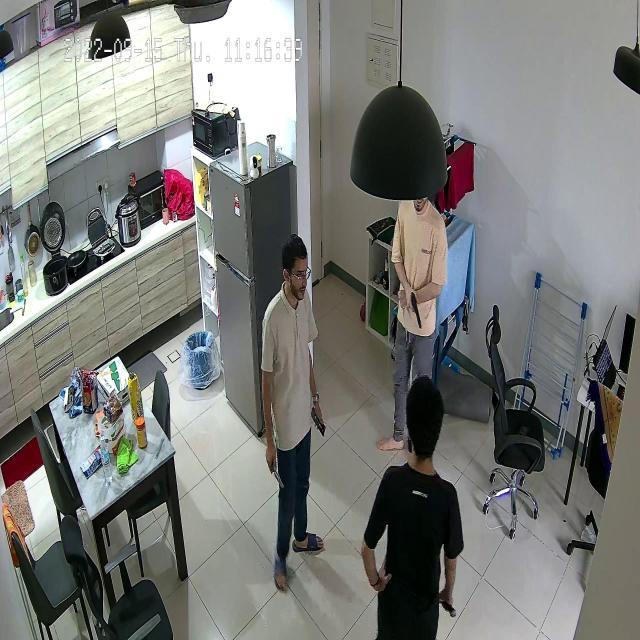Gun: (402, 284, 434, 344)
Knife: (258, 453, 288, 495)
